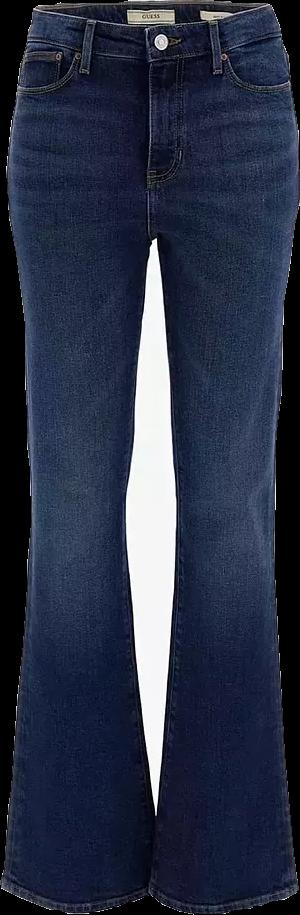Hemline: (0, 878, 153, 914), (145, 881, 299, 914)
Pantleg: (0, 0, 154, 911), (147, 0, 298, 913)
Waistline: (24, 32, 281, 68), (32, 0, 269, 33)
